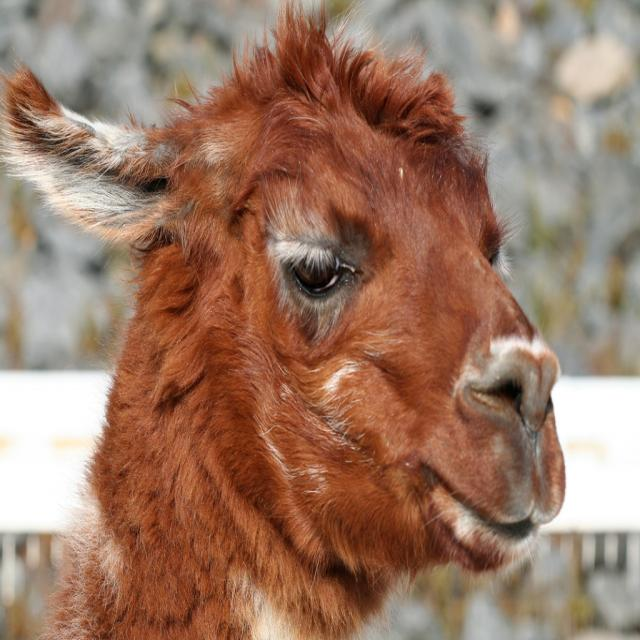Goat: (1, 1, 562, 635)
